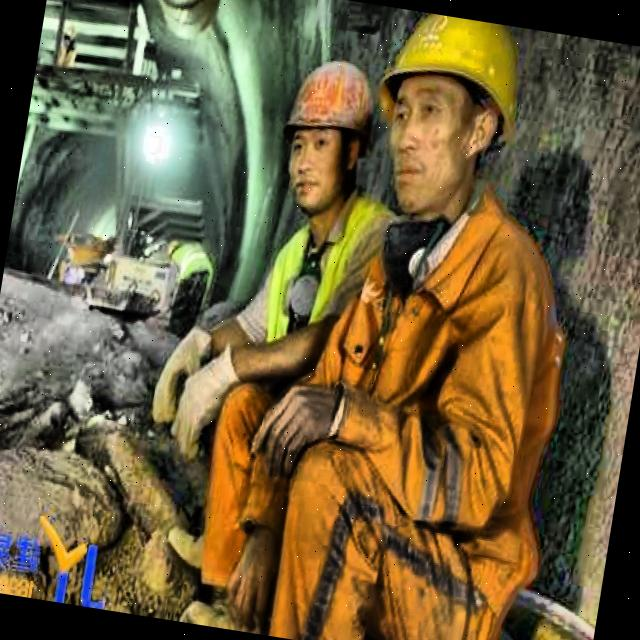helmet: (360, 9, 540, 234), (260, 45, 388, 232)
